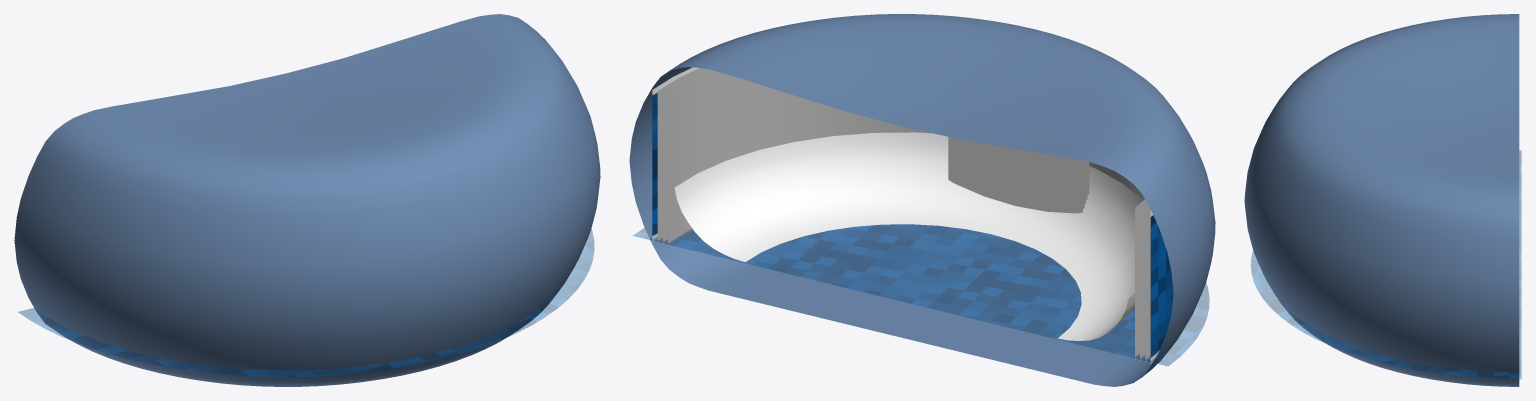
The model's file is F_SWCJ_WG.fbx.
3 renders of one model, left to right at view 1: azimuth 30°, elevation 25°; view 2: azimuth 150°, elevation 25°; view 3: azimuth 270°, elevation 25°, orthographic. The views are drawn at different scales.
Parts seen in each view (by area): view 1: background, d1; view 2: background, d2, d1, bj4, h5, bj1, bj2, bj3; view 3: background, d1.
Boxes of the visible parts, x1=… form: background: x1=14, y1=14, x2=600, y2=386; d1: x1=18, y1=229, x2=594, y2=376; background: x1=629, y1=14, x2=1215, y2=386; d2: x1=674, y1=132, x2=1142, y2=340; d1: x1=633, y1=224, x2=1209, y2=366; bj4: x1=668, y1=70, x2=1146, y2=359; h5: x1=948, y1=137, x2=1082, y2=213; bj1: x1=652, y1=67, x2=1173, y2=363; bj2: x1=657, y1=68, x2=1151, y2=362; bj3: x1=663, y1=69, x2=1148, y2=360; background: x1=1244, y1=14, x2=1519, y2=386; d1: x1=1251, y1=150, x2=1521, y2=378.
Size of the model in its own units: 708 by 275 by 356.
